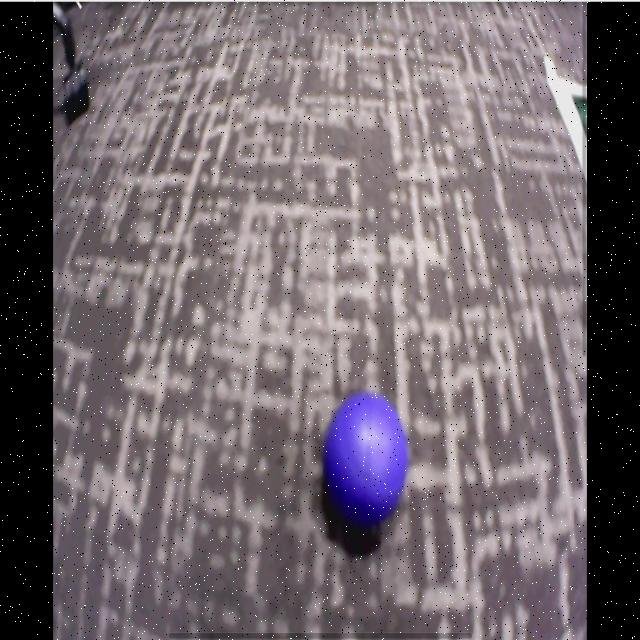ball: (324, 392, 407, 531)
